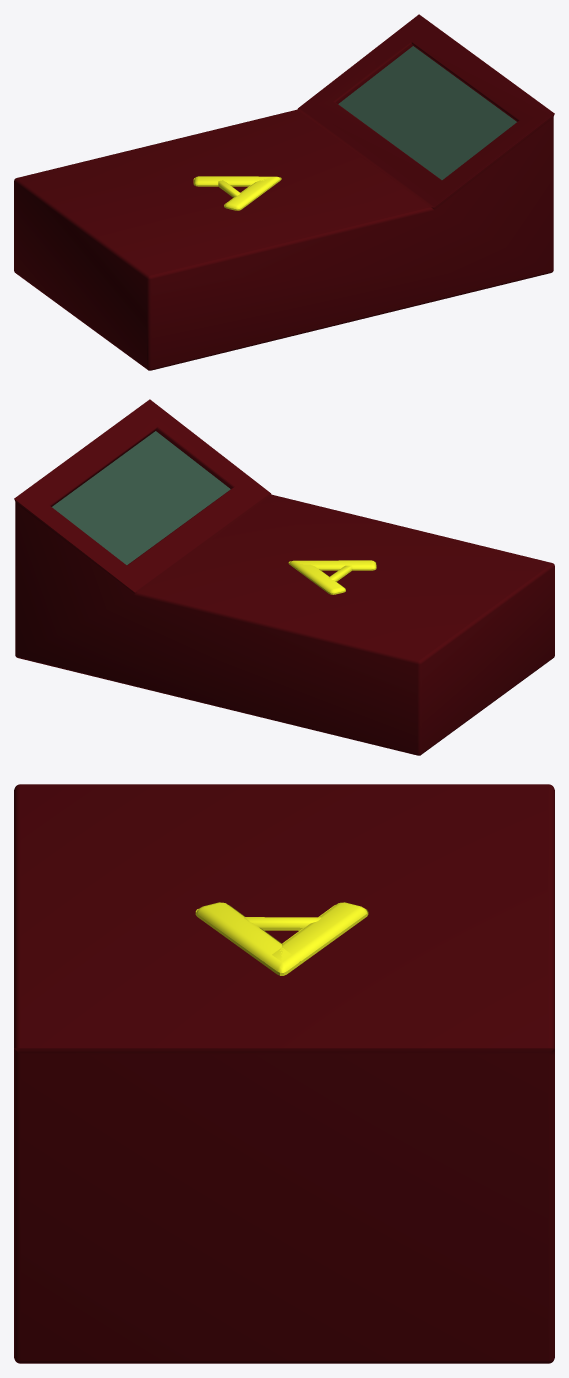
The model's file is ammeter.fbx.
3 views of the same model, one above another, from view 1: azimuth 30°, elevation 25°; view 2: azimuth 150°, elevation 25°; view 3: azimuth 270°, elevation 25° (orthographic). The views are drawn at different scales.
Visible parts, largest first — view 1: Cube, Cube.001; view 2: Cube, Cube.001; view 3: Cube, Cube.001, Cube.002.
Part boxes in pixels (x1,y1,x2,y2): Cube: (14, 14, 554, 370); Cube.001: (193, 176, 281, 210); Cube: (14, 399, 554, 755); Cube.001: (288, 560, 376, 594); Cube: (14, 784, 554, 1363); Cube.001: (195, 902, 368, 975); Cube.002: (244, 917, 321, 930).
Size of the model in its own units: 123 by 46.04 by 71.08.
